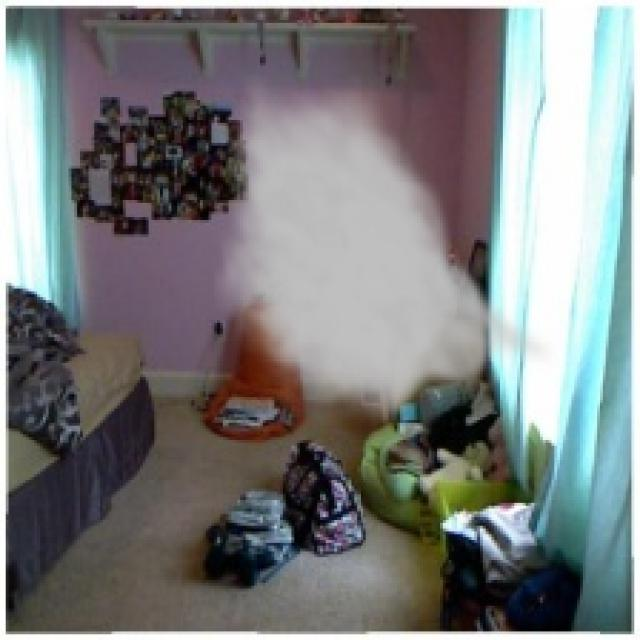smoke: (214, 72, 560, 434)
